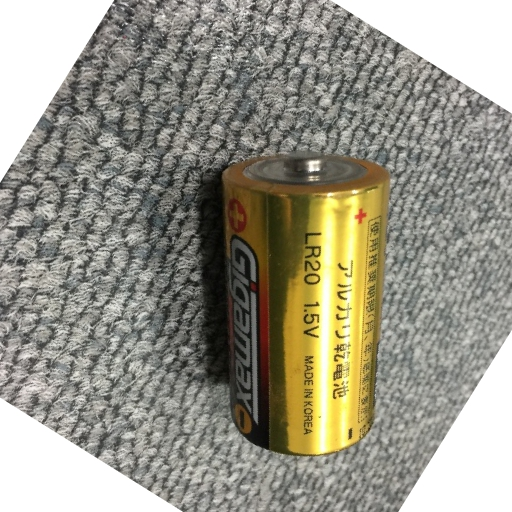Battery_0: (206, 145, 402, 462)
